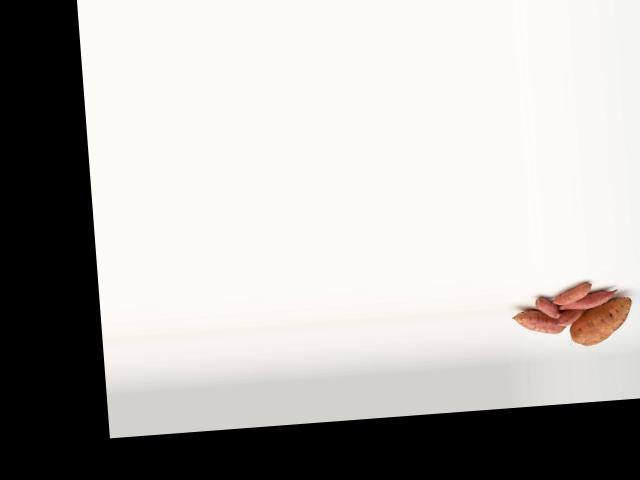sweet_potato: (510, 307, 564, 337)
